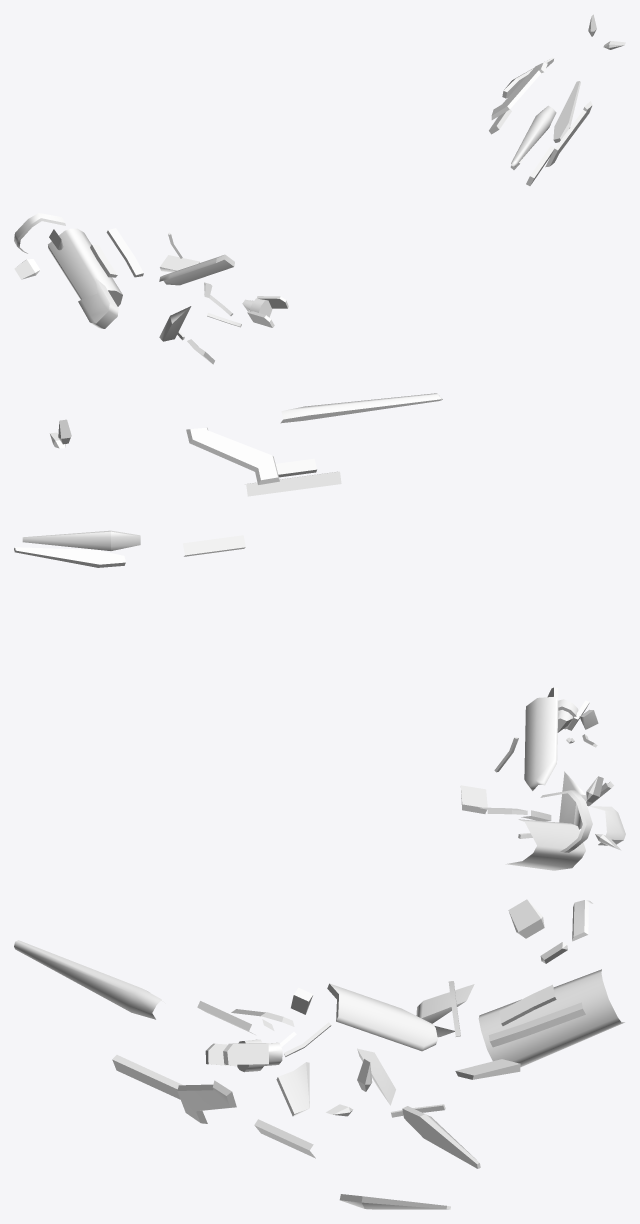
The model's file is ama_ship_wreck_01_02.glb.
3 renders of one model, top to bottom at view 1: azimuth 30°, elevation 25°; view 2: azimuth 150°, elevation 25°; view 3: azimuth 270°, elevation 25°, orthographic. The views are drawn at different scales.
Visible parts, largest first — view 1: ama_ship_wreck_details_01_02_LOD0, ama_ship_wreck_01_02_LOD0; view 2: ama_ship_wreck_details_01_02_LOD0, ama_ship_wreck_01_02_LOD0; view 3: ama_ship_wreck_details_01_02_LOD0, ama_ship_wreck_01_02_LOD0.
Boxes of the visible parts, x1,y1,x2,y2 form: ama_ship_wreck_details_01_02_LOD0: [48, 109, 554, 364]; ama_ship_wreck_01_02_LOD0: [14, 14, 625, 328]; ama_ship_wreck_details_01_02_LOD0: [183, 458, 613, 870]; ama_ship_wreck_01_02_LOD0: [14, 393, 625, 852]; ama_ship_wreck_details_01_02_LOD0: [112, 969, 624, 1158]; ama_ship_wreck_01_02_LOD0: [14, 899, 592, 1209].
Size of what is drawn, in the model's own units: 10.5 by 4.37 by 6.74.
2 materials, 2 textured.
